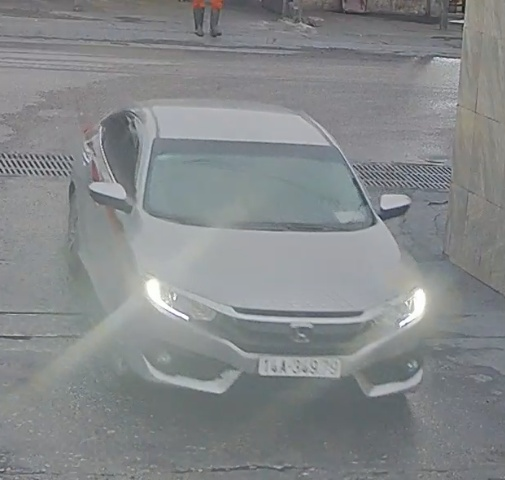vehicle plate: (252, 349, 350, 382)
